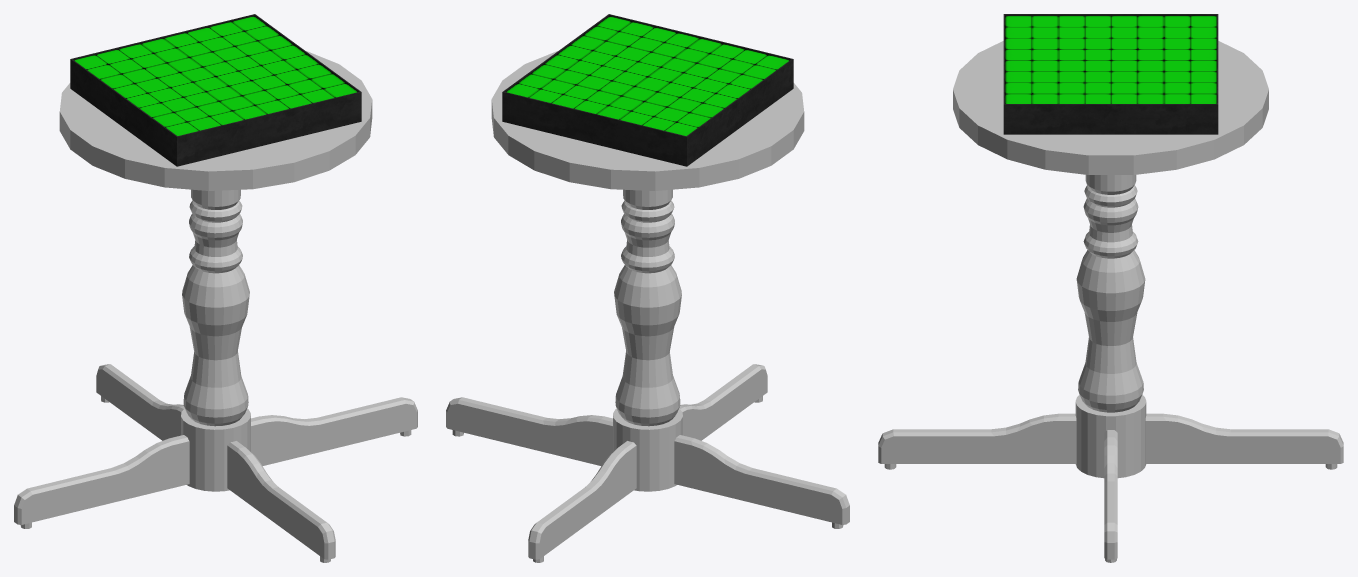
The model's file is SyouGi_Main.fbx.
3 renders of one model, left to right at view 1: azimuth 30°, elevation 25°; view 2: azimuth 150°, elevation 25°; view 3: azimuth 270°, elevation 25°, orthographic.
Visible parts, largest first — view 1: SyouGi_Main, SyouGi_Table_pillar, SyouGi_Table_board, SyouGi_Table_leg_1, SyouGi_Table_leg_2, SyouGi_Table_leg_3, SyouGi_Table_leg_4; view 2: SyouGi_Main, SyouGi_Table_pillar, SyouGi_Table_board, SyouGi_Table_leg_1, SyouGi_Table_leg_2, SyouGi_Table_leg_4, SyouGi_Table_leg_3; view 3: SyouGi_Main, SyouGi_Table_pillar, SyouGi_Table_board, SyouGi_Table_leg_4, SyouGi_Table_leg_3, SyouGi_Table_leg_2.
Part boxes in pixels (x1,y1,x2,y2): SyouGi_Main: [70, 14, 361, 166]; SyouGi_Table_pillar: [181, 189, 250, 491]; SyouGi_Table_board: [59, 51, 372, 190]; SyouGi_Table_leg_1: [14, 435, 189, 528]; SyouGi_Table_leg_2: [251, 397, 417, 465]; SyouGi_Table_leg_3: [227, 441, 335, 562]; SyouGi_Table_leg_4: [96, 364, 184, 440]; SyouGi_Main: [502, 14, 793, 166]; SyouGi_Table_pillar: [613, 189, 682, 491]; SyouGi_Table_board: [491, 51, 804, 190]; SyouGi_Table_leg_1: [674, 435, 849, 528]; SyouGi_Table_leg_2: [446, 397, 612, 465]; SyouGi_Table_leg_4: [528, 441, 636, 562]; SyouGi_Table_leg_3: [679, 364, 767, 440]; SyouGi_Main: [1003, 14, 1218, 134]; SyouGi_Table_pillar: [1075, 175, 1146, 478]; SyouGi_Table_board: [953, 41, 1268, 174]; SyouGi_Table_leg_4: [1145, 413, 1343, 469]; SyouGi_Table_leg_3: [878, 413, 1076, 469]; SyouGi_Table_leg_2: [1104, 430, 1117, 562].
Bounding box in the file's own units: 0.8783 × 0.849 × 0.8782.
